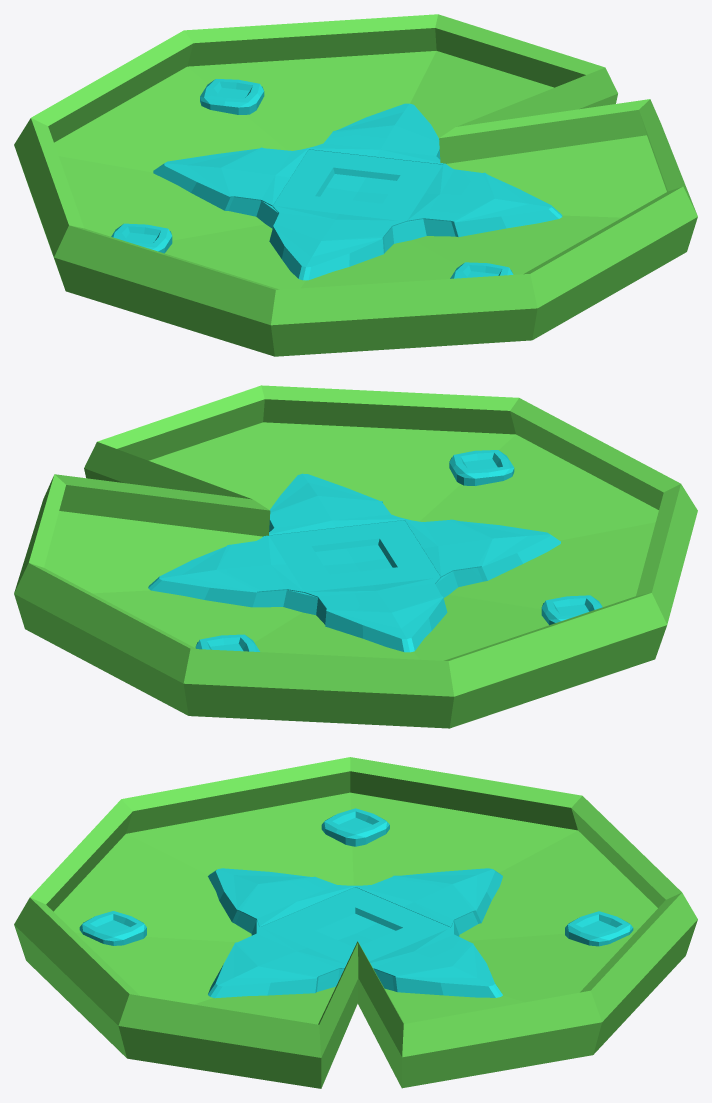
Rendered from SpockPlacer_LilyPad.fbx.
3 renders of one model, top to bottom at view 1: azimuth 30°, elevation 25°; view 2: azimuth 150°, elevation 25°; view 3: azimuth 270°, elevation 25°, orthographic. The views are drawn at different scales.
Parts seen in each view (by area): view 1: Spock Placer_lily pad; view 2: Spock Placer_lily pad; view 3: Spock Placer_lily pad.
Part boxes in pixels (bbox=[...]): Spock Placer_lily pad: bbox=[14, 14, 697, 356]; Spock Placer_lily pad: bbox=[14, 385, 697, 728]; Spock Placer_lily pad: bbox=[14, 757, 697, 1088].
Size of the model in its own units: 587 by 605 by 65.95.
